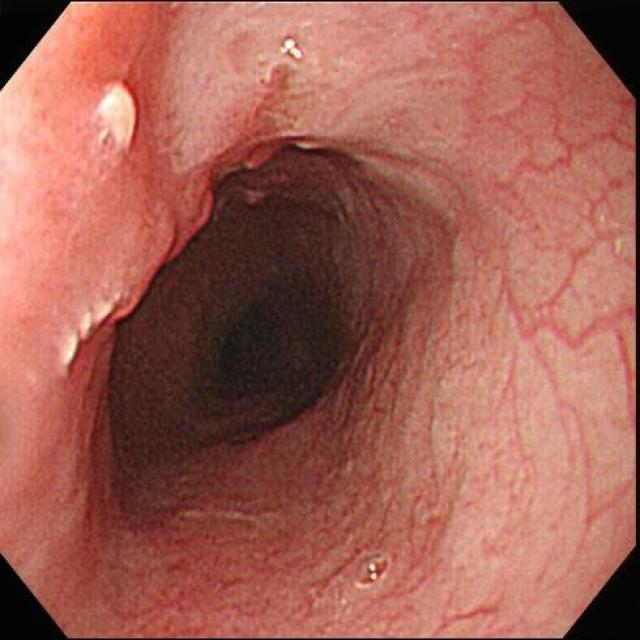A: (51, 175, 215, 361)
E: (188, 242, 355, 439)
J: (95, 76, 139, 161)
T: (354, 551, 392, 590)
U: (280, 38, 306, 59)
